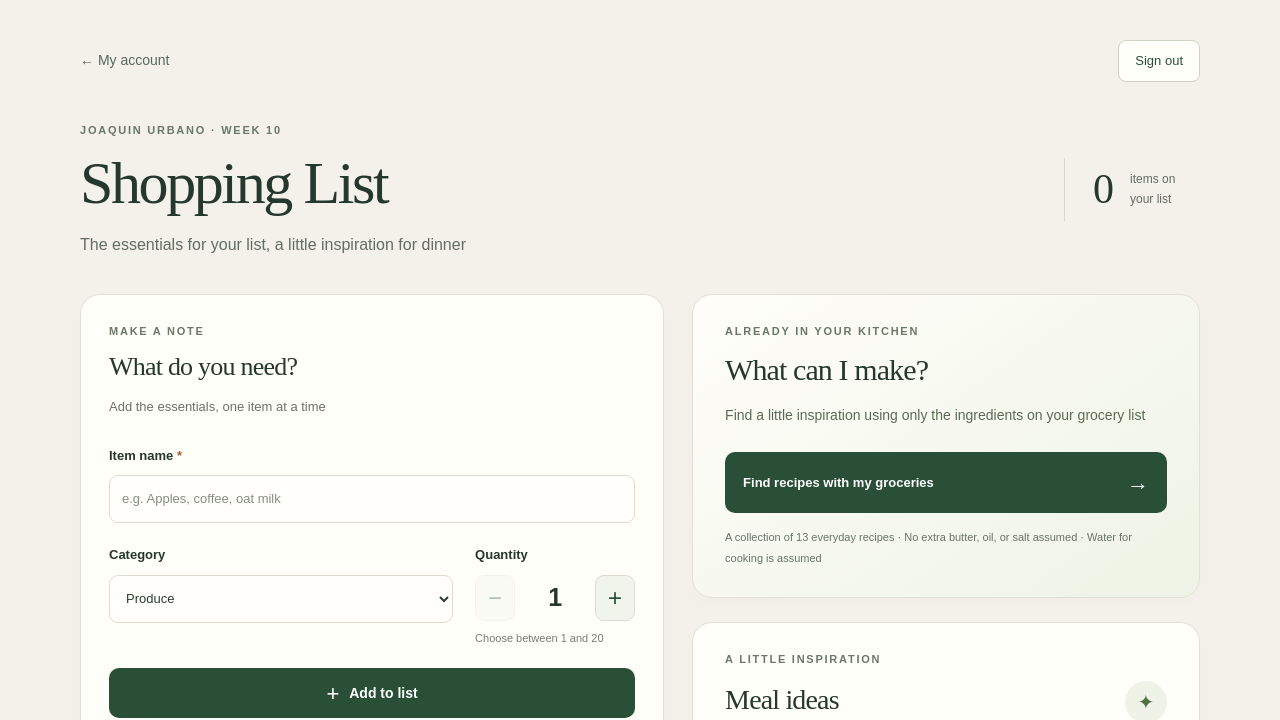
Scenario: groceries wait for the account to load and remain after a page remount
Later steps or results of the test are not shown.
In the field labelled "Item name *": [372, 499] box [109,475,635,523], type "Milk"
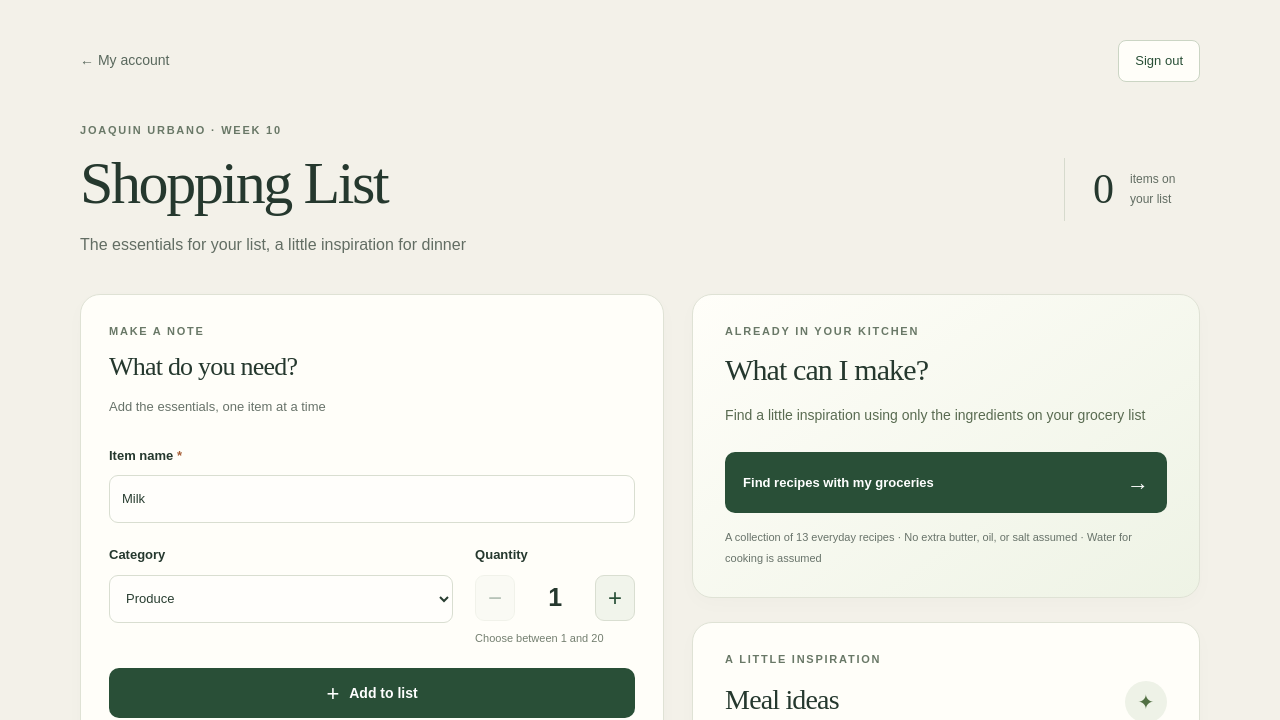
Select "Dairy" in the dropdown labelled "Category": [281, 599] box [109,575,453,623]
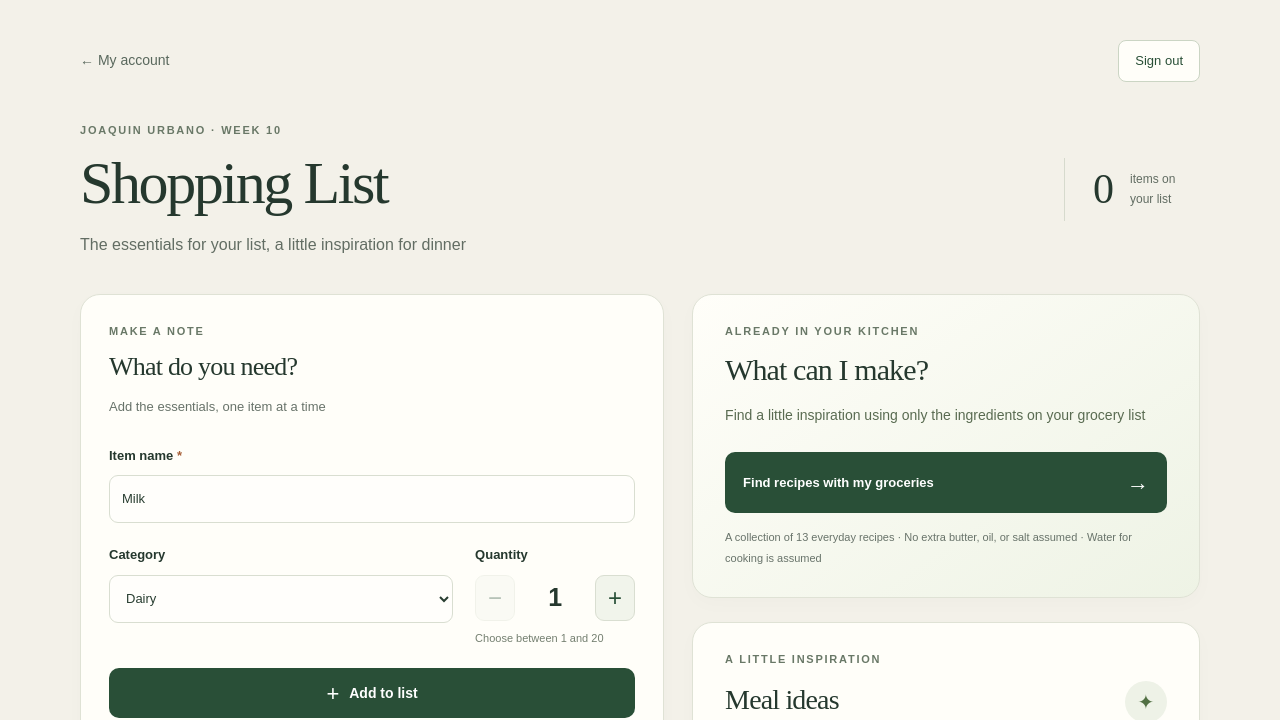
Click the button "+ Add to list": [372, 693] box [109,668,635,718]
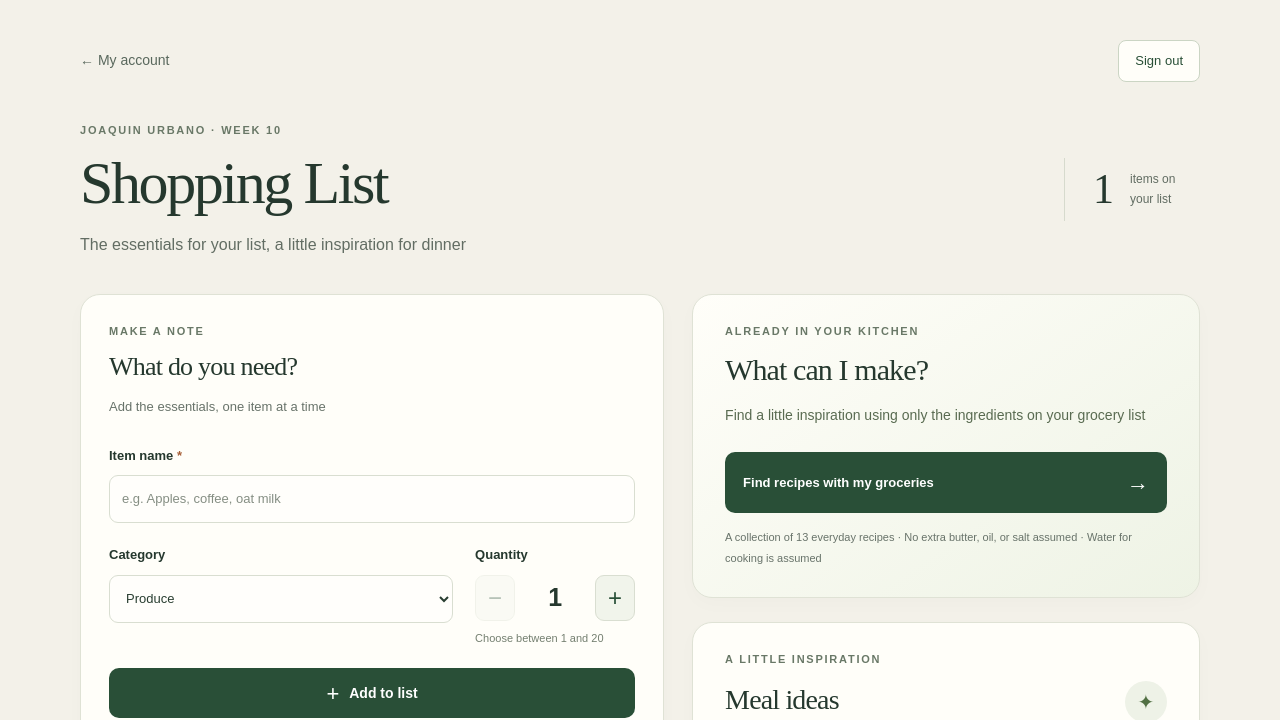
Result: the field labelled "Item name *" is empty at [109,475,635,523]
